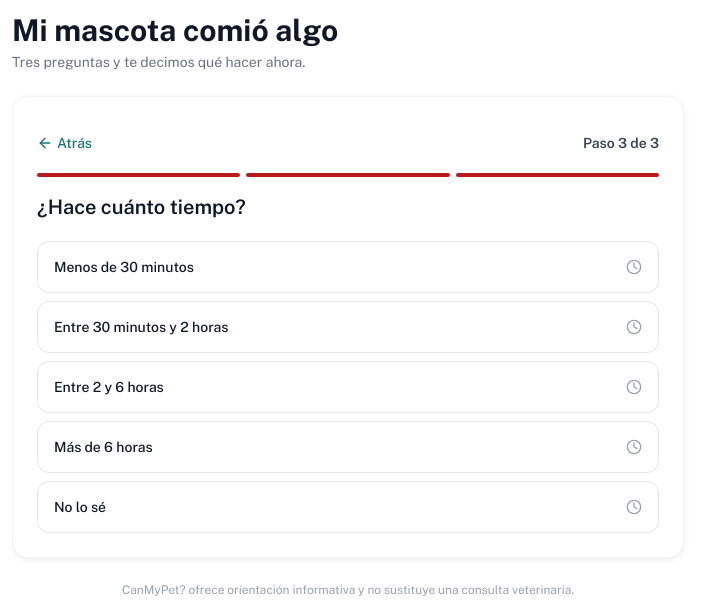
it: EmergencyFlowPage › goes back one question at a time
This screenshot has width=701, height=613.
Click the button "Atrás".
click(64, 143)  # box [37,121,92,165]
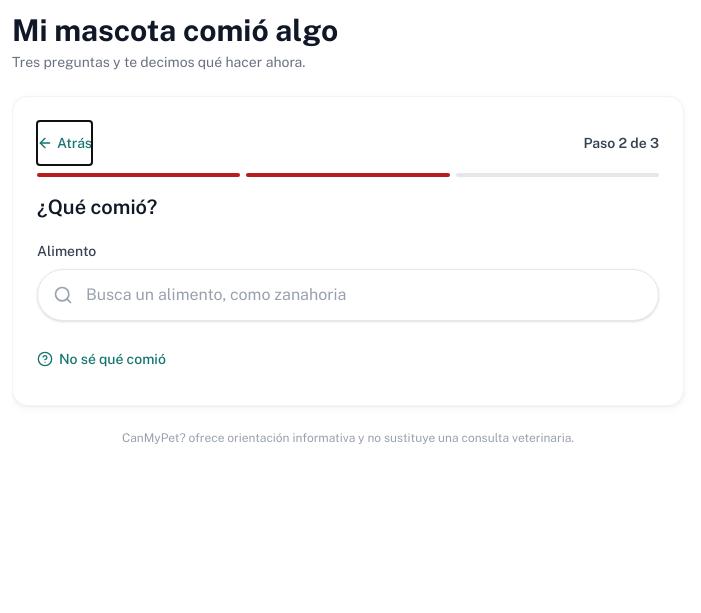
Now the heading "¿Qué comió?" is shown, box [37,195,157,219]
